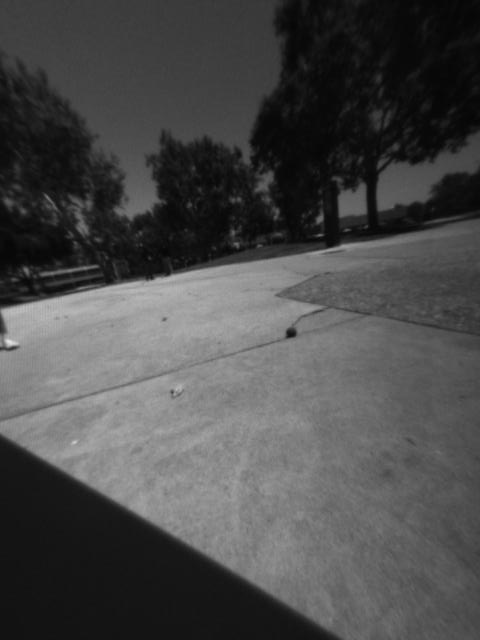dogtoy: (280, 321, 304, 346)
